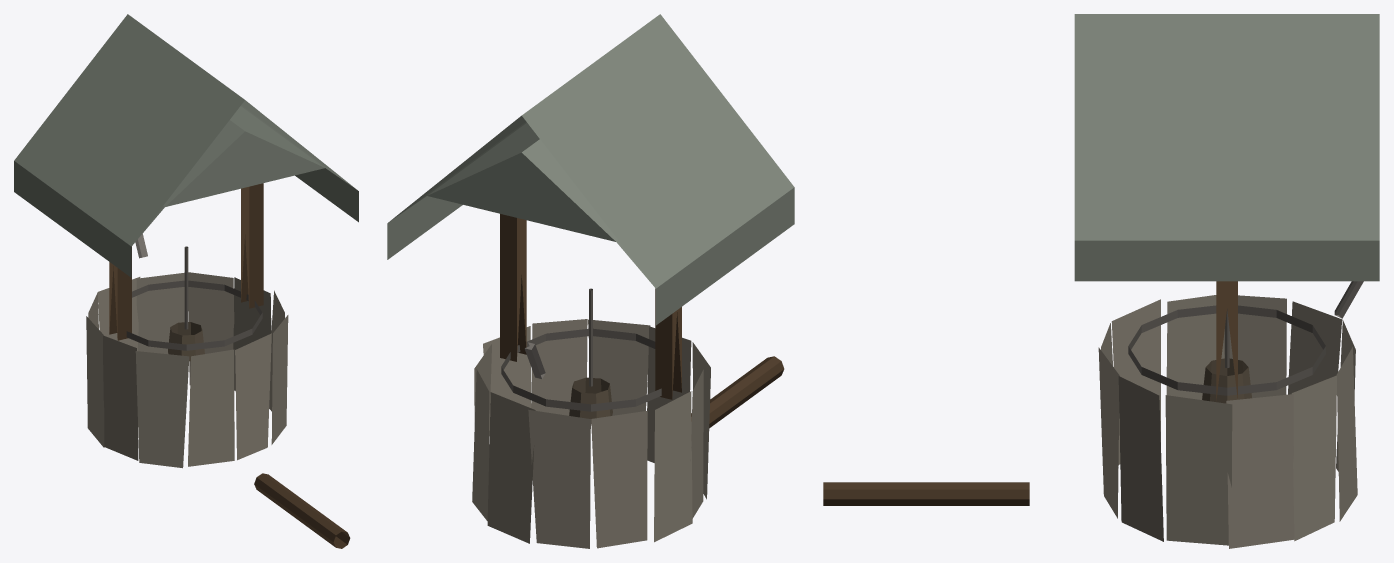
The model's file is fv_well_stone.glb.
3 views of the same model, side by side, from view 1: azimuth 30°, elevation 25°; view 2: azimuth 150°, elevation 25°; view 3: azimuth 270°, elevation 25° (orthographic). The views are drawn at different scales.
Visible parts, largest first — view 1: well_roof.001, well_drum.001, well_post0.001, well_windlass.001, well_hole.001, well_post-0.001, well_bucket.001; view 2: well_roof.001, well_drum.001, well_post0.001, well_hole.001, well_post-0.001, well_windlass.001, well_bucket.001; view 3: well_roof.001, well_drum.001, well_windlass.001, well_hole.001, well_post0.001, well_bucket.001.
Part boxes in pixels (x1,y1,x2,y2): well_roof.001: (14, 14, 358, 277); well_drum.001: (86, 272, 288, 468); well_post0.001: (241, 183, 263, 308); well_windlass.001: (254, 473, 350, 548); well_hole.001: (126, 280, 262, 350); well_post-0.001: (109, 246, 131, 340); well_bucket.001: (168, 322, 204, 361); well_roof.001: (387, 14, 794, 325); well_drum.001: (472, 319, 710, 548); well_post0.001: (500, 214, 526, 361); well_hole.001: (501, 328, 661, 411); well_post-0.001: (655, 288, 681, 399); well_windlass.001: (691, 356, 784, 428); well_bucket.001: (569, 377, 612, 423); well_roof.001: (1074, 14, 1379, 281); well_drum.001: (1098, 295, 1357, 548); well_windlass.001: (823, 482, 1029, 505); well_hole.001: (1128, 305, 1325, 395); well_post0.001: (1216, 281, 1237, 400); well_bucket.001: (1202, 358, 1251, 403).
Size of the model in its own units: 1.9 by 3.02 by 3.1.
